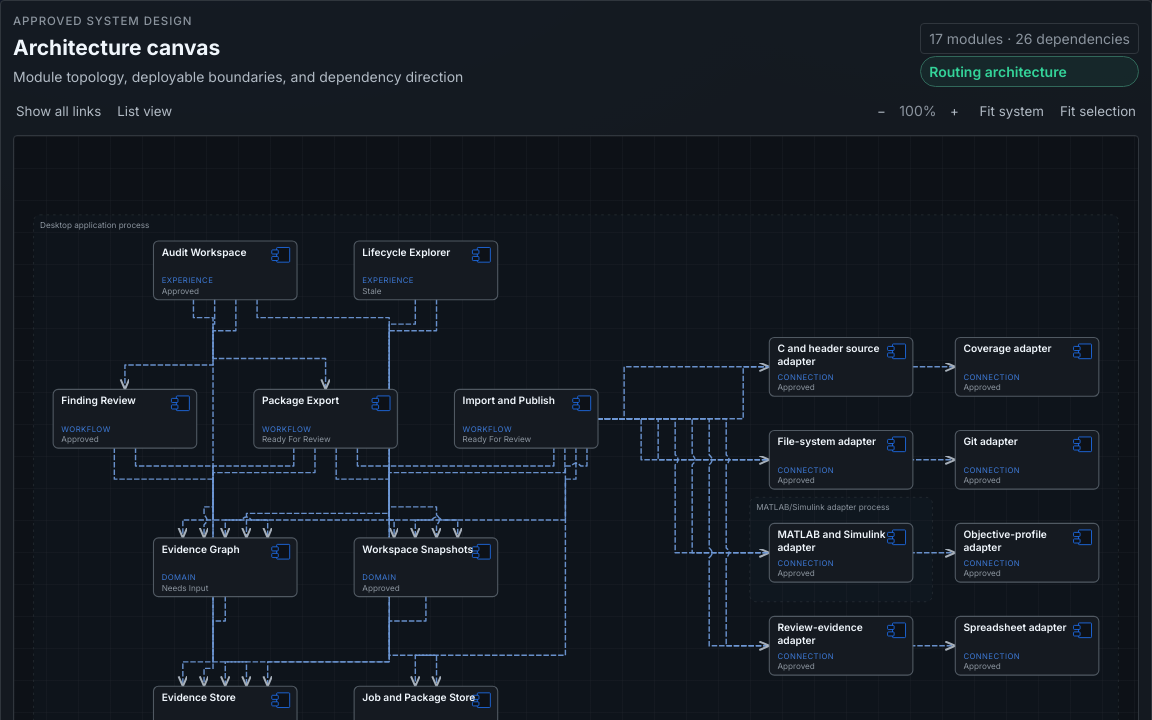
Scenario: System canvas (§8.2) › provides a text relationship list alternative to the SVG canvas
Click the button "List view" at point(145, 111), box [110, 95, 179, 127]
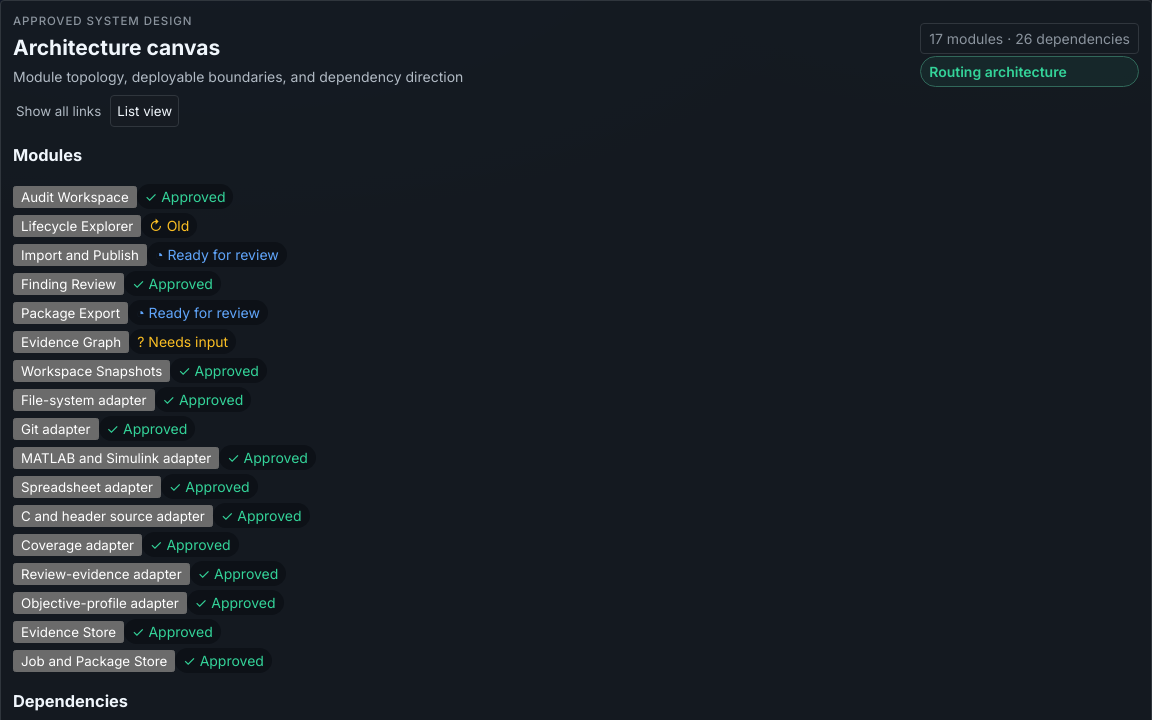
Expected: the button "Evidence Graph" is shown, [13, 331, 129, 353]
